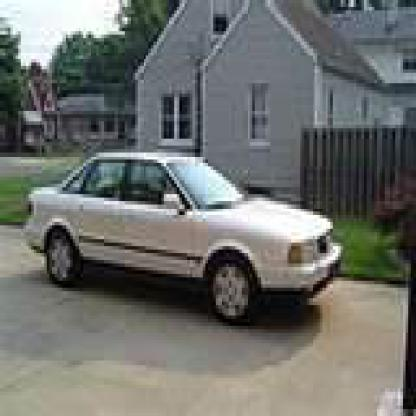Vehicle: (31, 149, 346, 340)
